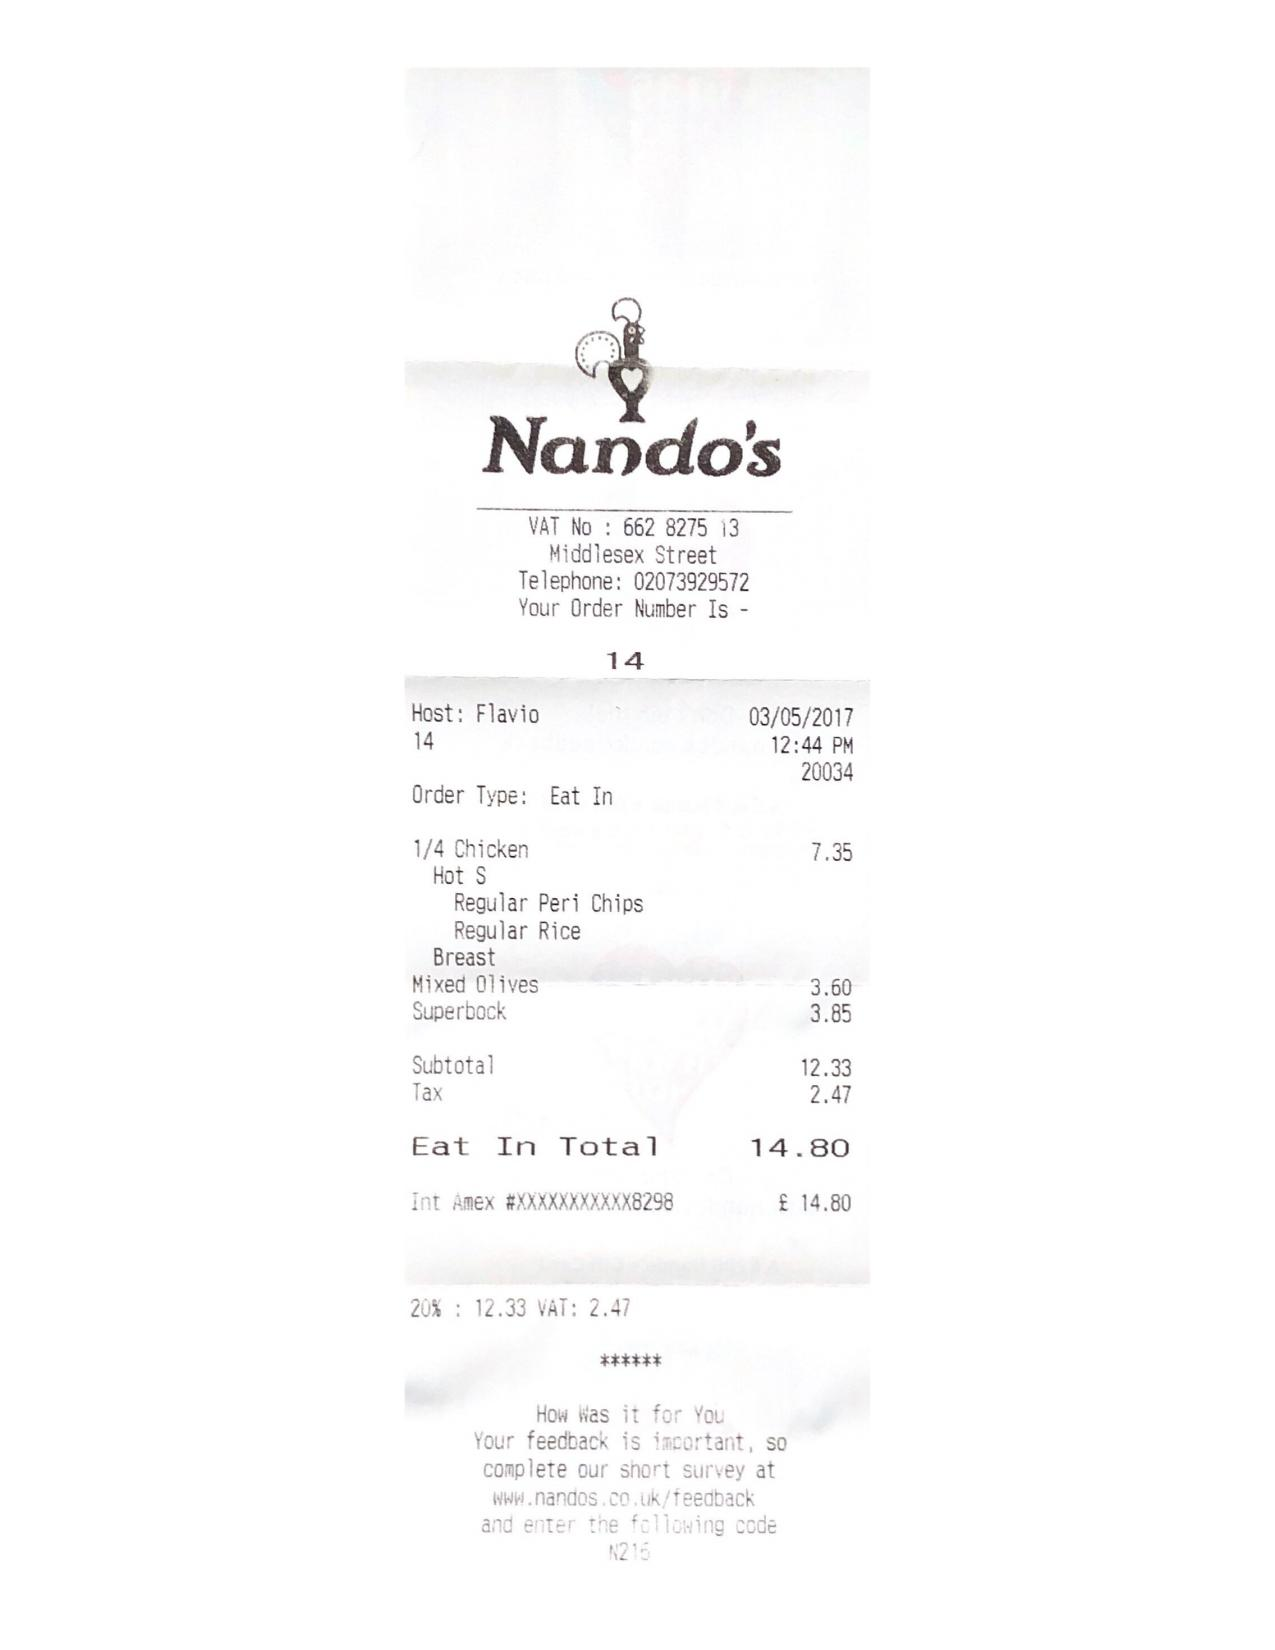Amount: (751, 1138, 848, 1156)
Date: (750, 706, 852, 729)
company_name: (483, 408, 781, 478)
